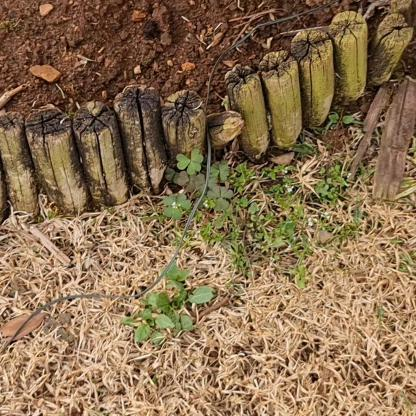Weeds: (120, 263, 217, 344), (162, 147, 235, 225)
